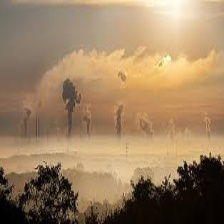smoke: (13, 74, 219, 147)
